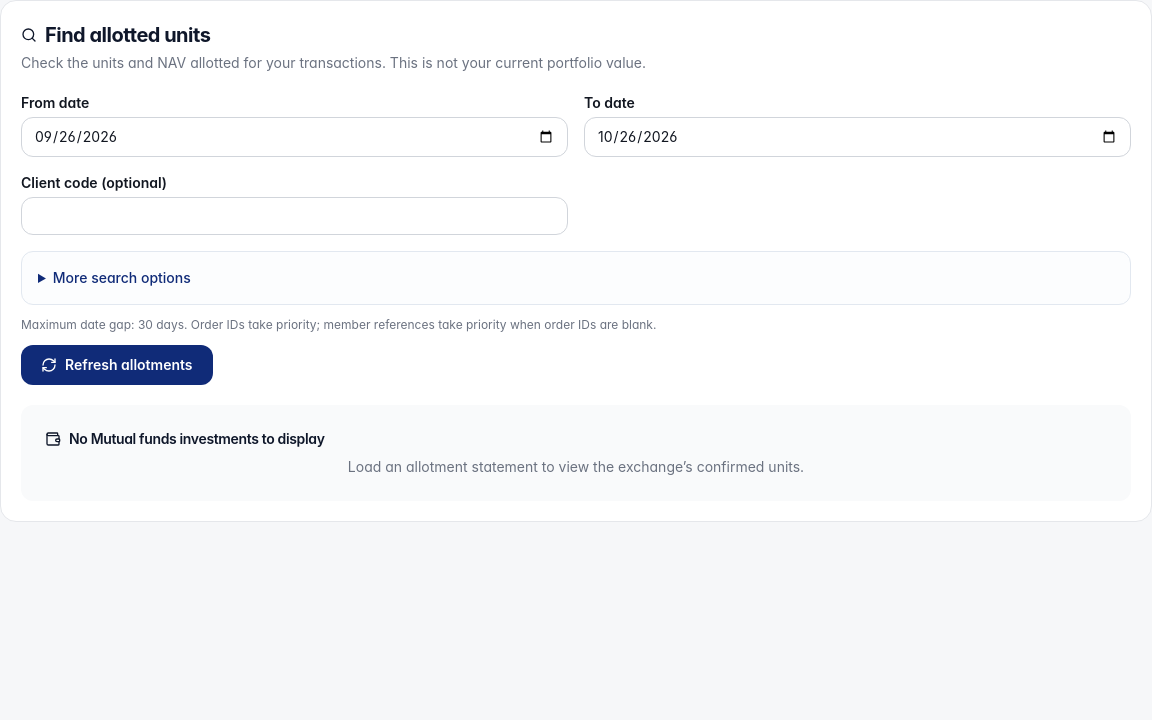
Test: Mutual funds Investments allotments UI › shows an empty report and validation failures without inventing holdings
Step 1. Click the button "Refresh allotments" → (117, 365), box [21,345,212,385]
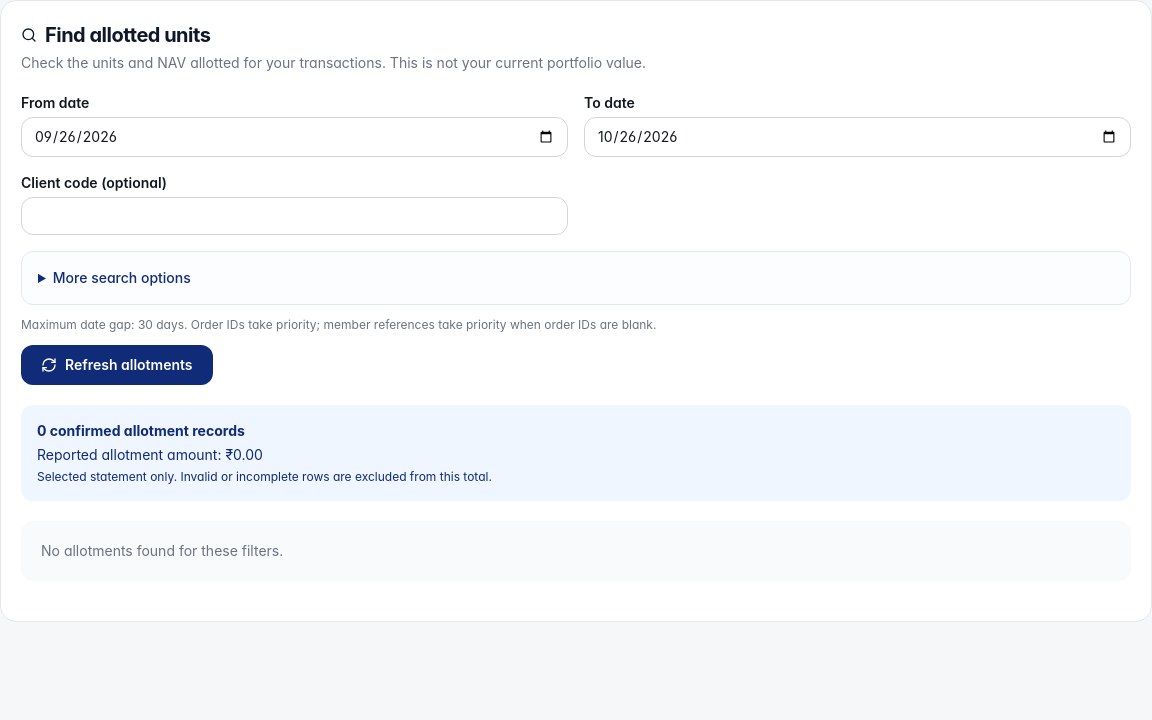
Expected: the text "No allotments found for these filters." is shown, [21,521,1131,581]
Step 2. Click the button "Refresh allotments" → (117, 365), box [21,345,212,385]
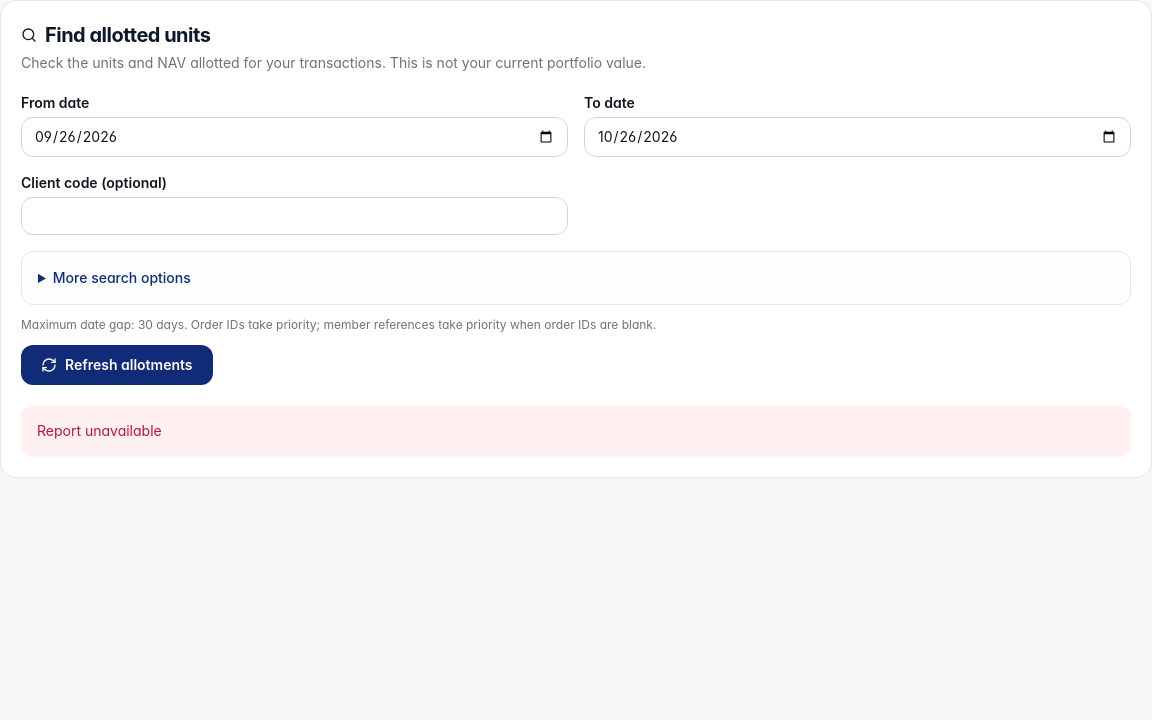
Expected: the message reads "Report unavailable", [37,422,162,439]
Expected: the text "No allotments found for these filters." is gone
